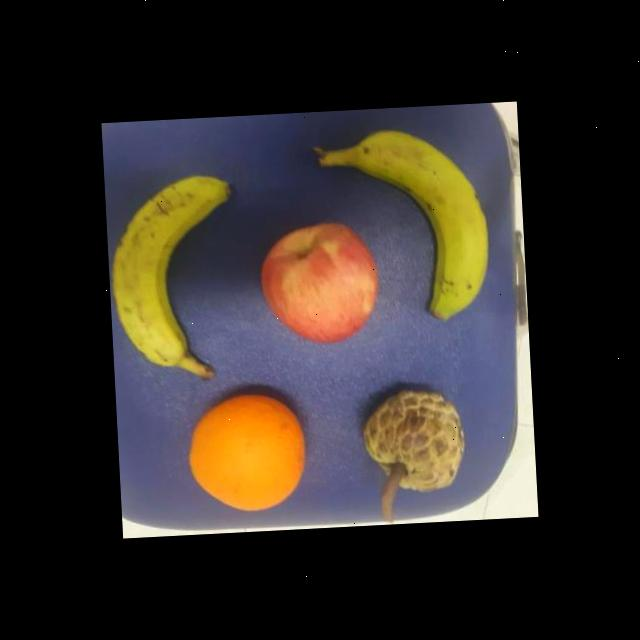Sakya fruit: (358, 383, 470, 498)
apple: (256, 218, 382, 346)
banana: (314, 125, 494, 330), (105, 174, 244, 388)
orange: (186, 386, 310, 518)
